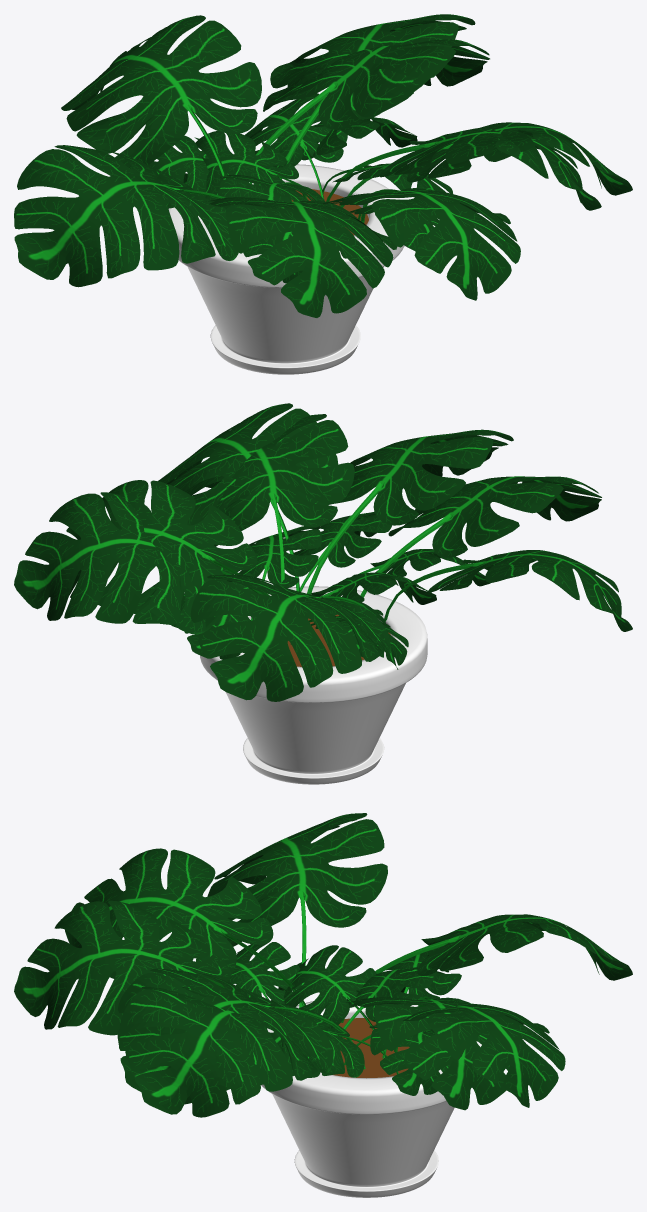
Rendered from planta_2.glb.
3 renders of one model, top to bottom at view 1: azimuth 30°, elevation 25°; view 2: azimuth 150°, elevation 25°; view 3: azimuth 270°, elevation 25°, orthographic. The views are drawn at different scales.
Visible parts, largest first — view 1: Object_9, Object_8, Object_4, Object_5, Object_3, Object_10, Object_11, Object_6, Object_7; view 2: Object_5, Object_4, Object_3, Object_8, Object_9, Object_7, Object_10, Object_6, Object_11; view 3: Object_5, Object_4, Object_9, Object_8, Object_3, Object_6, Object_7, Object_11, Object_10, Object_2.
Boxes of the visible parts, left/top/right/bottom form: Object_9: left=14, top=128, right=601, bottom=287; Object_8: left=206, top=39, right=489, bottom=317; Object_4: left=61, top=15, right=632, bottom=207; Object_5: left=263, top=14, right=520, bottom=300; Object_3: left=168, top=164, right=404, bottom=374; Object_10: left=183, top=131, right=439, bottom=251; Object_11: left=243, top=93, right=354, bottom=283; Object_6: left=217, top=117, right=417, bottom=208; Object_7: left=148, top=135, right=452, bottom=208; Object_5: left=14, top=429, right=513, bottom=634; Object_4: left=158, top=403, right=390, bottom=701; Object_3: left=200, top=586, right=427, bottom=784; Object_8: left=66, top=476, right=601, bottom=631; Object_9: left=185, top=414, right=632, bottom=631; Object_7: left=227, top=526, right=408, bottom=669; Object_10: left=294, top=511, right=391, bottom=656; Object_6: left=171, top=566, right=436, bottom=627; Object_11: left=180, top=549, right=489, bottom=659; Object_5: left=14, top=900, right=565, bottom=1107; Object_4: left=120, top=914, right=632, bottom=1117; Object_9: left=117, top=813, right=387, bottom=1104; Object_8: left=65, top=848, right=525, bottom=1110; Object_3: left=260, top=998, right=481, bottom=1197; Object_6: left=271, top=945, right=450, bottom=1095; Object_7: left=240, top=946, right=461, bottom=1077; Object_11: left=228, top=942, right=433, bottom=1065; Object_10: left=223, top=967, right=448, bottom=1035; Object_2: left=333, top=1017, right=409, bottom=1078.
Bounding box in the file's own units: 10.54 × 4.71 × 10.82.
Materials: 3 (1 with a texture image).
